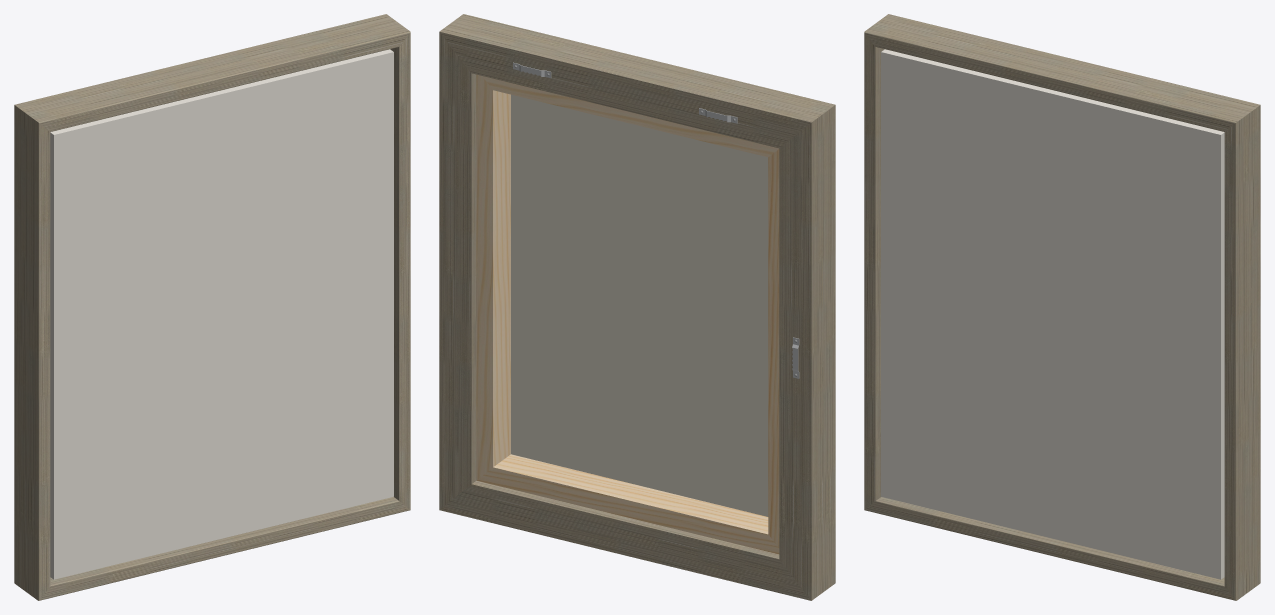
Rendered from delivery.glb.
3 renders of one model, left to right at view 1: azimuth 30°, elevation 25°; view 2: azimuth 150°, elevation 25°; view 3: azimuth 330°, elevation 25°, orthographic.
Parts seen in each view (by area): view 1: Canvas artwork front, Tray approved profile 0; view 2: Canvas linen reverse, Tray approved profile 0, Stretcher top, Sawtooth hanger 0; view 3: Canvas artwork front, Tray approved profile 0.
Boxes of the visible parts, x1,y1,x2,y2 form: Canvas artwork front: [50, 49, 393, 579]; Tray approved profile 0: [14, 14, 410, 600]; Canvas linen reverse: [511, 94, 768, 516]; Tray approved profile 0: [439, 14, 835, 600]; Stretcher top: [476, 74, 779, 554]; Sawtooth hanger 0: [513, 62, 799, 378]; Canvas artwork front: [881, 49, 1224, 579]; Tray approved profile 0: [864, 14, 1260, 600].
Size of the model in its own units: 0.438 by 0.538 by 0.0524.
Materials: 7 (3 with a texture image).
